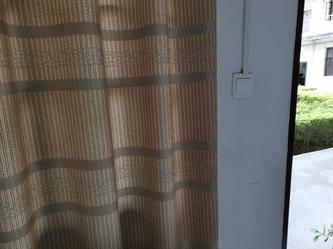switch: (237, 76, 253, 95)
